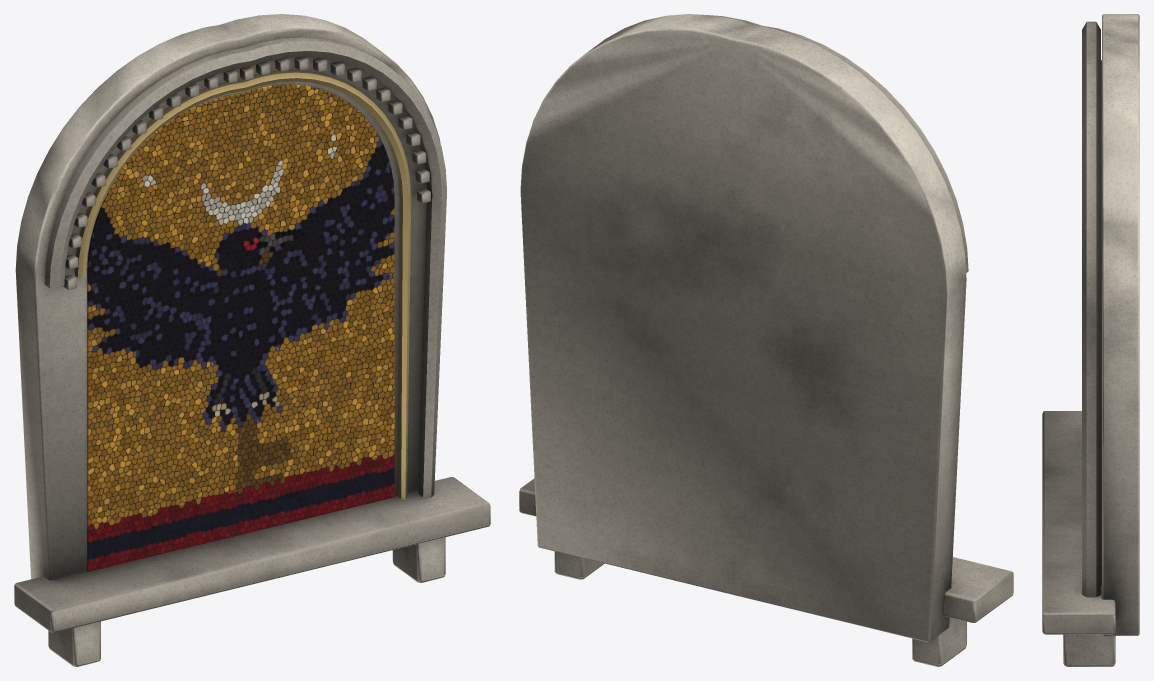
The model's file is MosaicRaven.fbx.
The picture shows the model from 3 angles, left to right: view 1: azimuth 30°, elevation 25°; view 2: azimuth 150°, elevation 25°; view 3: azimuth 270°, elevation 25°; orthographic projection. The views are drawn at different scales.
Parts seen in each view (by area): view 1: MosaicRaven_Canvas, MosaicRaven_Main; view 2: MosaicRaven_Main; view 3: MosaicRaven_Main.
Boxes of the visible parts, x1=… form: MosaicRaven_Canvas: x1=87, y1=84, x2=394, y2=571; MosaicRaven_Main: x1=14, y1=14, x2=490, y2=666; MosaicRaven_Main: x1=519, y1=14, x2=1013, y2=666; MosaicRaven_Main: x1=1042, y1=14, x2=1139, y2=666.
Size of the model in its own units: 460 by 571 by 93.
